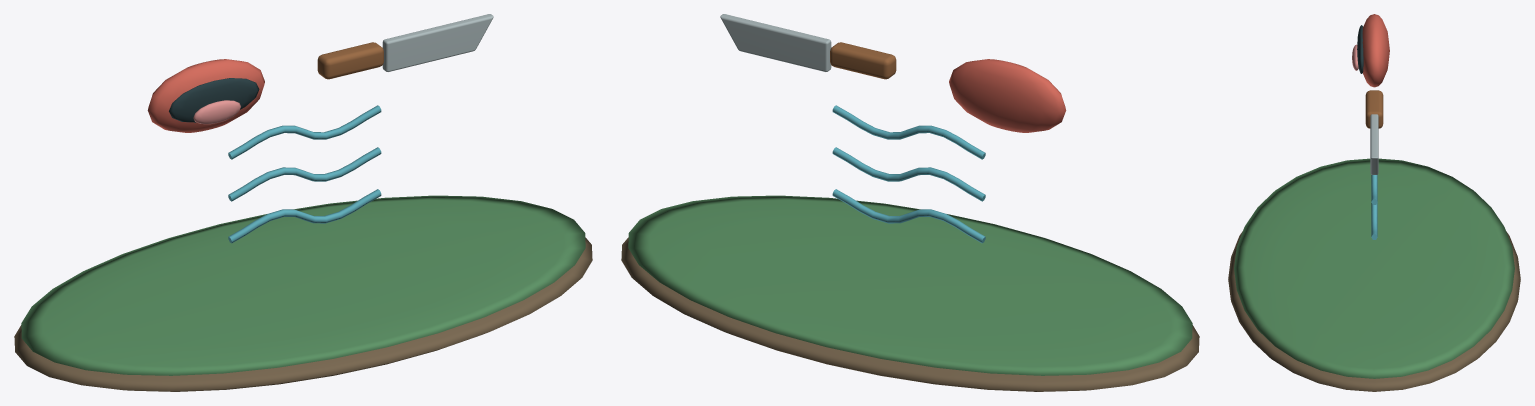
File: complete-second-wind-tongue-blade.glb
The picture shows the model from 3 angles, left to right: view 1: azimuth 30°, elevation 25°; view 2: azimuth 150°, elevation 25°; view 3: azimuth 270°, elevation 25°; orthographic projection. The views are drawn at different scales.
Visible parts, largest first — view 1: complete-second-wind-tongue-blade_surface_01, complete-second-wind-tongue-blade_surface_00, complete-second-wind-tongue-blade_surface_07, complete-second-wind-tongue-blade_surface_02, complete-second-wind-tongue-blade_surface_06, complete-second-wind-tongue-blade_surface_03, complete-second-wind-tongue-blade_surface_05, complete-second-wind-tongue-blade_surface_04; view 2: complete-second-wind-tongue-blade_surface_01, complete-second-wind-tongue-blade_surface_00, complete-second-wind-tongue-blade_surface_02, complete-second-wind-tongue-blade_surface_07, complete-second-wind-tongue-blade_surface_06, complete-second-wind-tongue-blade_surface_05; view 3: complete-second-wind-tongue-blade_surface_01, complete-second-wind-tongue-blade_surface_00, complete-second-wind-tongue-blade_surface_02, complete-second-wind-tongue-blade_surface_05, complete-second-wind-tongue-blade_surface_06, complete-second-wind-tongue-blade_surface_07, complete-second-wind-tongue-blade_surface_03.
Boxes of the visible parts, <box> form: complete-second-wind-tongue-blade_surface_01: <box>21,195,585,375</box>; complete-second-wind-tongue-blade_surface_00: <box>14,237,592,391</box>; complete-second-wind-tongue-blade_surface_07: <box>228,105,381,243</box>; complete-second-wind-tongue-blade_surface_02: <box>147,59,264,132</box>; complete-second-wind-tongue-blade_surface_06: <box>382,14,493,71</box>; complete-second-wind-tongue-blade_surface_03: <box>169,78,259,122</box>; complete-second-wind-tongue-blade_surface_05: <box>317,42,383,79</box>; complete-second-wind-tongue-blade_surface_04: <box>193,100,240,124</box>; complete-second-wind-tongue-blade_surface_01: <box>628,195,1192,375</box>; complete-second-wind-tongue-blade_surface_00: <box>621,237,1199,391</box>; complete-second-wind-tongue-blade_surface_02: <box>949,59,1066,132</box>; complete-second-wind-tongue-blade_surface_07: <box>832,105,985,243</box>; complete-second-wind-tongue-blade_surface_06: <box>720,14,831,71</box>; complete-second-wind-tongue-blade_surface_05: <box>830,42,896,79</box>; complete-second-wind-tongue-blade_surface_01: <box>1234,158,1514,378</box>; complete-second-wind-tongue-blade_surface_00: <box>1228,231,1520,391</box>; complete-second-wind-tongue-blade_surface_02: <box>1362,14,1389,87</box>; complete-second-wind-tongue-blade_surface_05: <box>1365,90,1383,128</box>; complete-second-wind-tongue-blade_surface_06: <box>1370,114,1378,174</box>; complete-second-wind-tongue-blade_surface_07: <box>1371,175,1377,239</box>; complete-second-wind-tongue-blade_surface_03: <box>1357,25,1363,73</box>.
Bounding box in the file's own units: 4.56 × 2.17 × 2.5.
